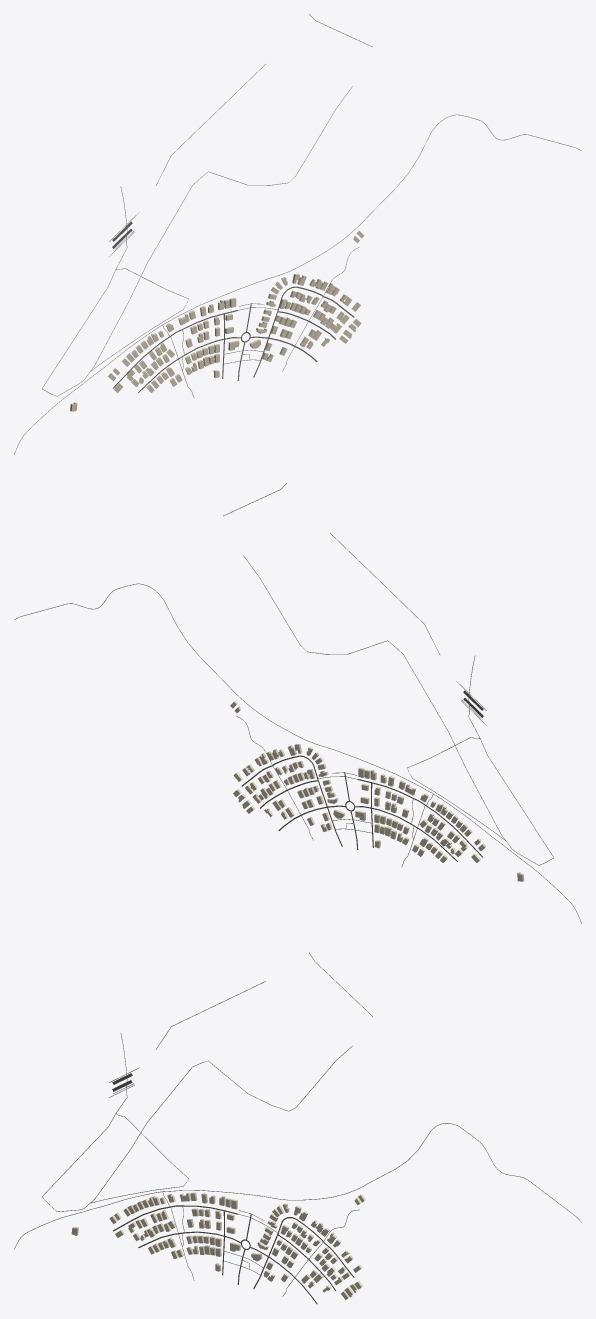
Rendered from historic-palestine-04_23_3460_3170.glb.
3 renders of one model, top to bottom at view 1: azimuth 30°, elevation 25°; view 2: azimuth 150°, elevation 25°; view 3: azimuth 330°, elevation 25°, orthographic.
Parts seen in each view (by area): view 1: Road .009; view 2: Road .009; view 3: Road .009.
Boxes of the visible parts, box(x1,y1,x2,y2) form: Road .009: box(14, 114, 581, 454); Road .009: box(14, 583, 581, 923); Road .009: box(14, 1123, 581, 1249).
Size of the model in its own units: 1652 by 1025 by 8.7.
